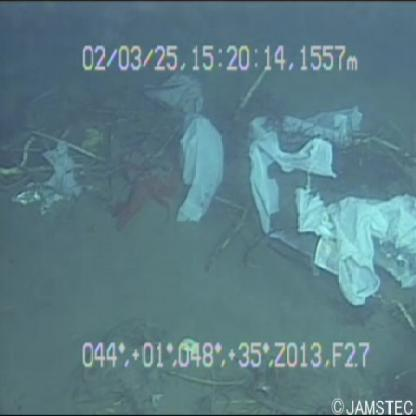Rác: (243, 98, 416, 308), (128, 63, 228, 237)
